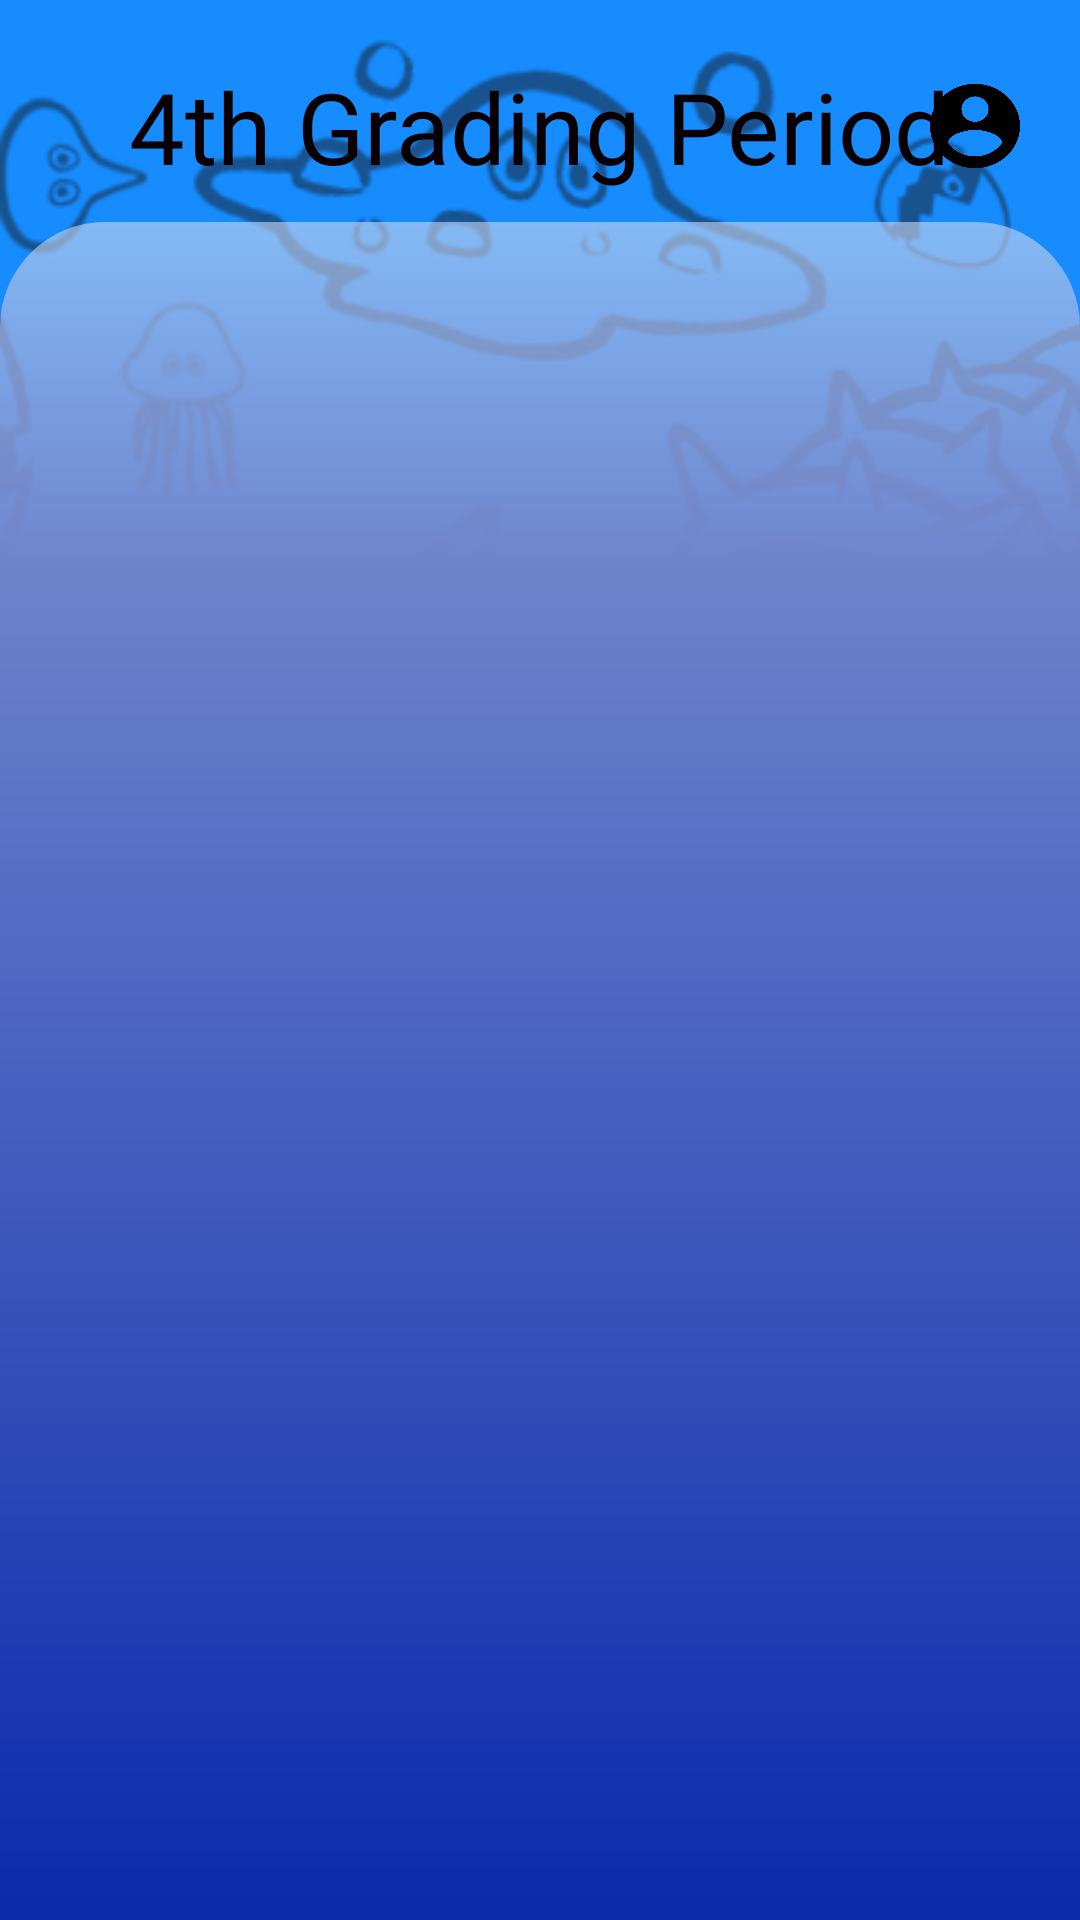

Icon bounding boxes for this 1080w x 1920h phone screenshot, format {"x1": x1, "y1": y1, "x2": x2, "y2": y2}:
profile: {"x1": 930, "y1": 84, "x2": 1020, "y2": 171}
